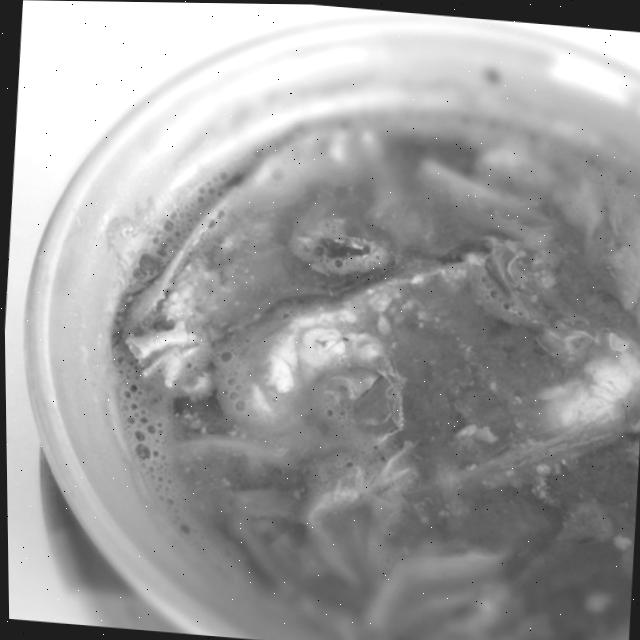汤锅炖物: (32, 33, 640, 640)
